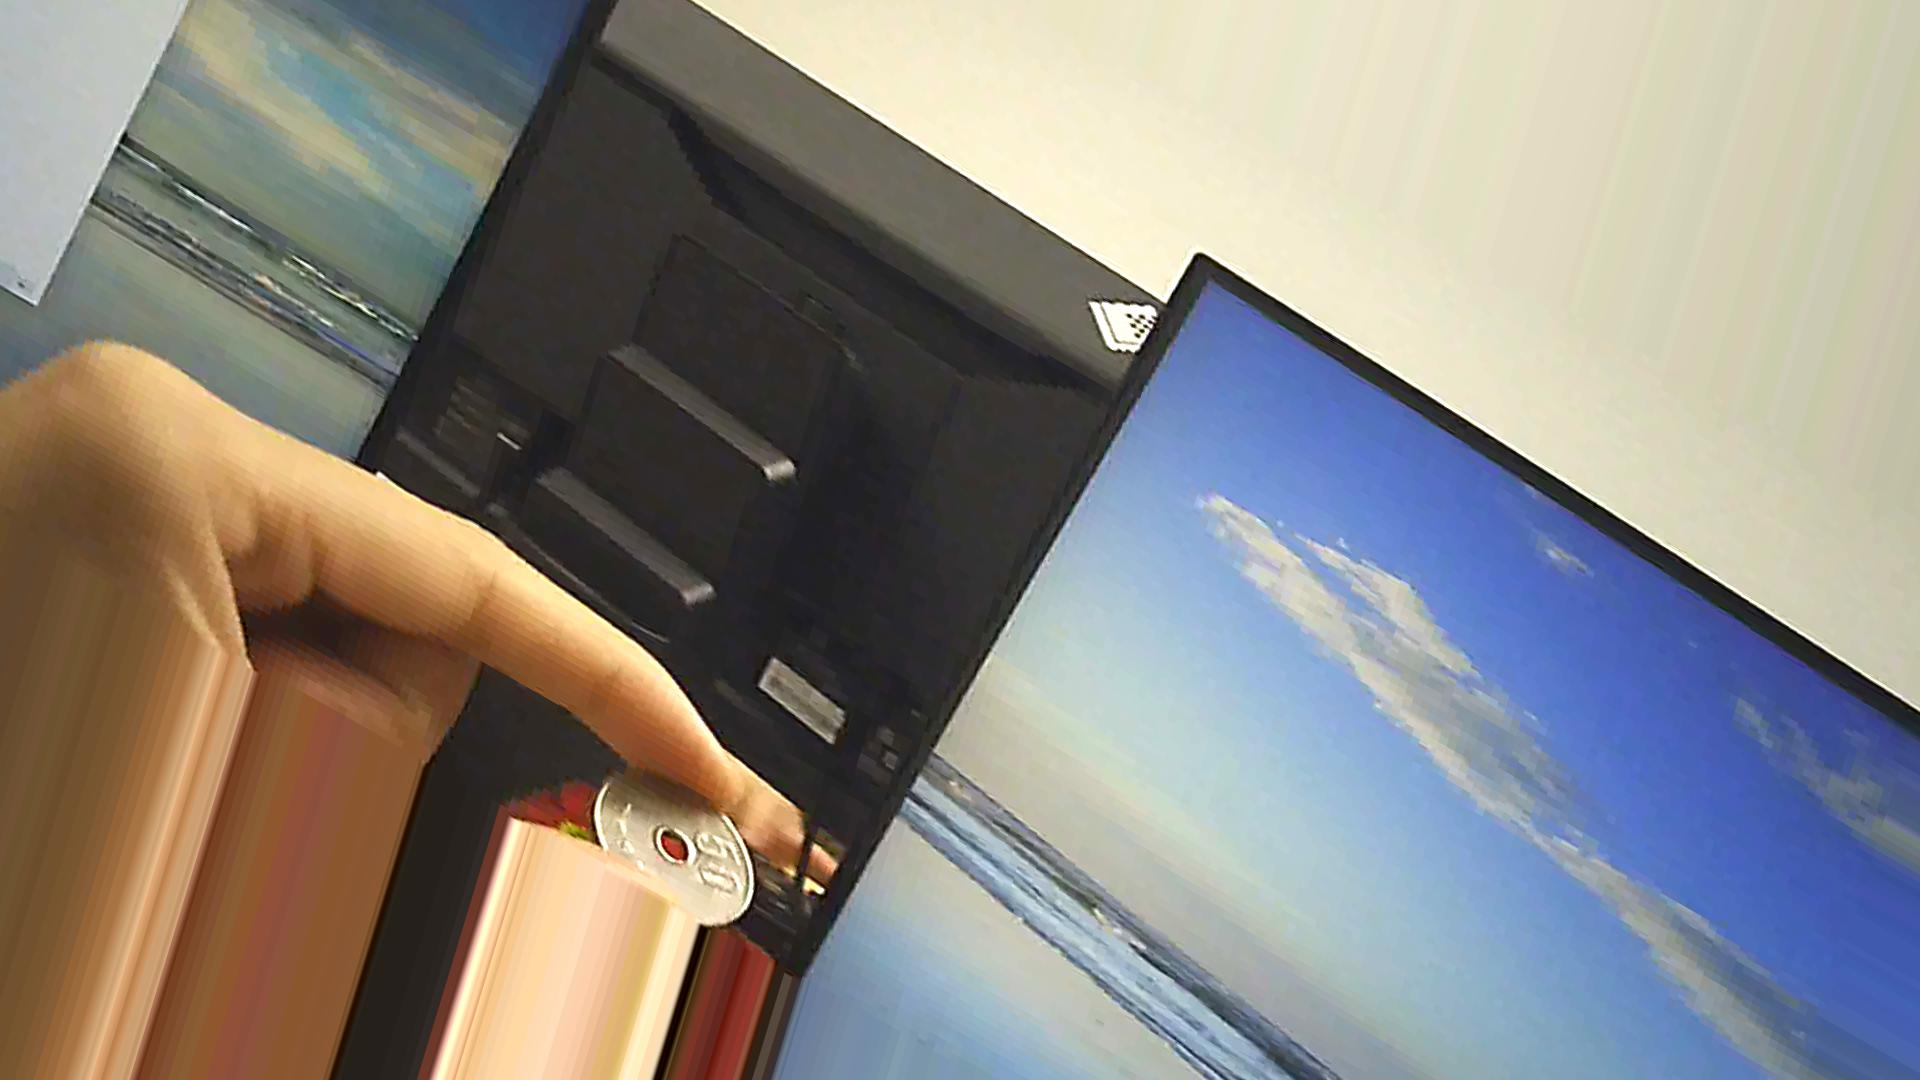50 Yen: (582, 765, 762, 942)
